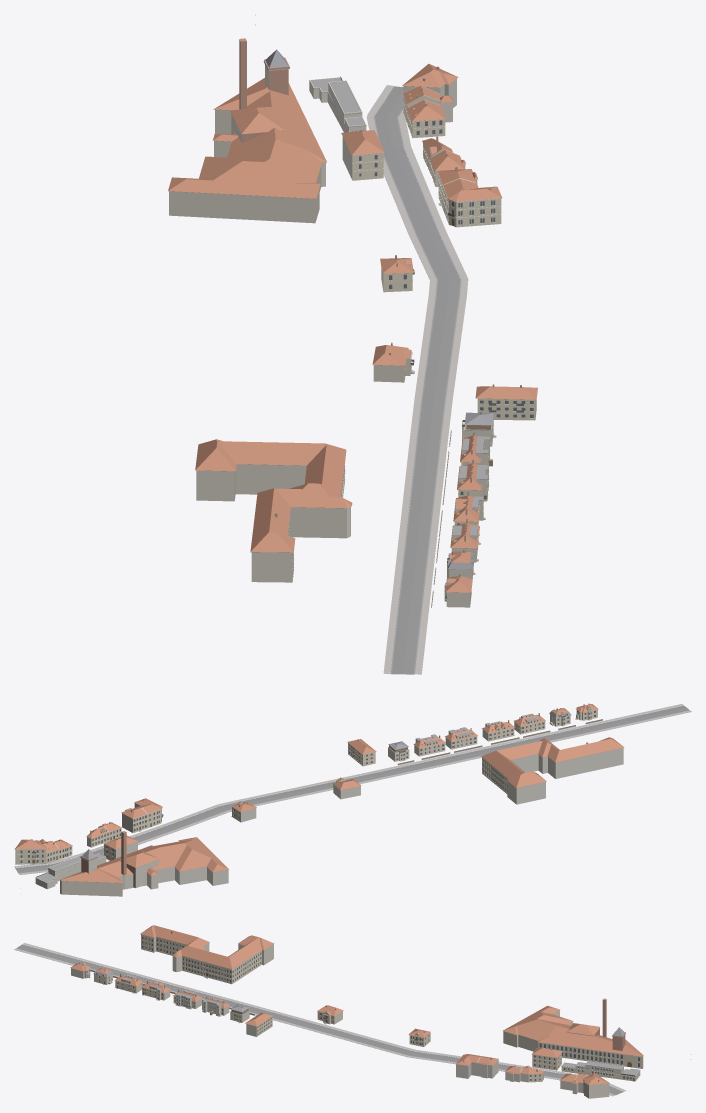
The model's file is zatecka_street.glb.
The picture shows the model from 3 angles, top to bottom: view 1: azimuth 30°, elevation 25°; view 2: azimuth 150°, elevation 25°; view 3: azimuth 270°, elevation 25°; orthographic projection. The views are drawn at different scales.
Parts seen in each view (by area): view 1: Street_Road_Setts, CP_1041_Roof, CP_1360_Roof, CP_1360_Masonry, CP_1041_Masonry, Street_Sidewalk_SE, Street_Sidewalk_NW, CP_1006_Masonry, CP_1041_WingRoof_vol_brewhouse, CP_2073_Masonry, Street_Gutter_NW, Street_Gutter_SE (+1 smaller); view 2: Street_Road_Setts, CP_1360_Masonry, CP_1041_Roof, CP_1360_Roof, CP_1041_Masonry, Street_Sidewalk_SE, Street_Sidewalk_NW, Street_Gutter_SE, CP_774_Masonry, CP_1041_Vol_brewhouse_Masonry, CP_1019_Masonry, CP_1041_WingRoof_vol_brewhouse (+4 smaller); view 3: CP_1041_Roof, Street_Road_Setts, CP_1360_Masonry, CP_1360_Roof, CP_1041_Masonry, Street_Sidewalk_NW, Street_Sidewalk_SE, Street_Gutter_NW, CP_110_Masonry, CP_774_Masonry, CP_437_Masonry, CP_1006_Masonry (+3 smaller).
Boxes of the visible parts, x1,y1,x2,y2 form: Street_Road_Setts: [375, 86, 459, 674]; CP_1041_Roof: [168, 78, 326, 198]; CP_1360_Roof: [195, 439, 352, 552]; CP_1360_Masonry: [196, 464, 350, 582]; CP_1041_Masonry: [169, 109, 325, 223]; Street_Sidewalk_SE: [398, 110, 468, 674]; Street_Sidewalk_NW: [366, 85, 436, 673]; CP_1006_Masonry: [443, 190, 501, 227]; CP_1041_WingRoof_vol_brewhouse: [230, 106, 285, 134]; CP_2073_Masonry: [477, 398, 536, 420]; Street_Gutter_NW: [374, 86, 438, 674]; Street_Gutter_SE: [396, 107, 460, 674]; Street_Road_Setts: [15, 705, 689, 873]; CP_1360_Masonry: [482, 748, 623, 804]; CP_1041_Roof: [59, 837, 228, 882]; CP_1360_Roof: [481, 737, 624, 787]; CP_1041_Masonry: [60, 866, 228, 896]; Street_Sidewalk_SE: [14, 704, 683, 867]; Street_Sidewalk_NW: [18, 710, 691, 874]; Street_Gutter_SE: [15, 705, 683, 868]; CP_774_Masonry: [15, 849, 46, 863]; CP_1041_Vol_brewhouse_Masonry: [126, 859, 158, 888]; CP_1019_Masonry: [122, 813, 147, 832]; CP_1041_WingRoof_vol_brewhouse: [119, 851, 158, 867]; CP_1041_Roof: [503, 1005, 643, 1056]; Street_Road_Setts: [16, 944, 623, 1094]; CP_1360_Masonry: [141, 934, 273, 984]; CP_1360_Roof: [140, 925, 274, 969]; CP_1041_Masonry: [503, 1010, 643, 1068]; Street_Sidewalk_NW: [23, 943, 626, 1091]; Street_Sidewalk_SE: [14, 948, 614, 1096]; Street_Gutter_NW: [22, 944, 623, 1091]; CP_110_Masonry: [561, 1067, 640, 1081]; CP_774_Masonry: [583, 1080, 609, 1098]; CP_437_Masonry: [532, 1053, 561, 1070]; CP_1006_Masonry: [456, 1062, 477, 1078].
Bounding box in the file's own units: 298 × 45.03 × 542.
